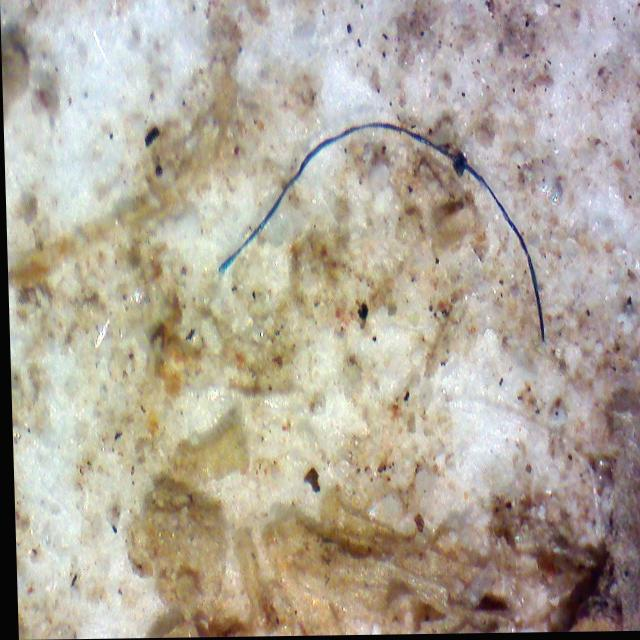microplastic: (215, 90, 590, 362)
